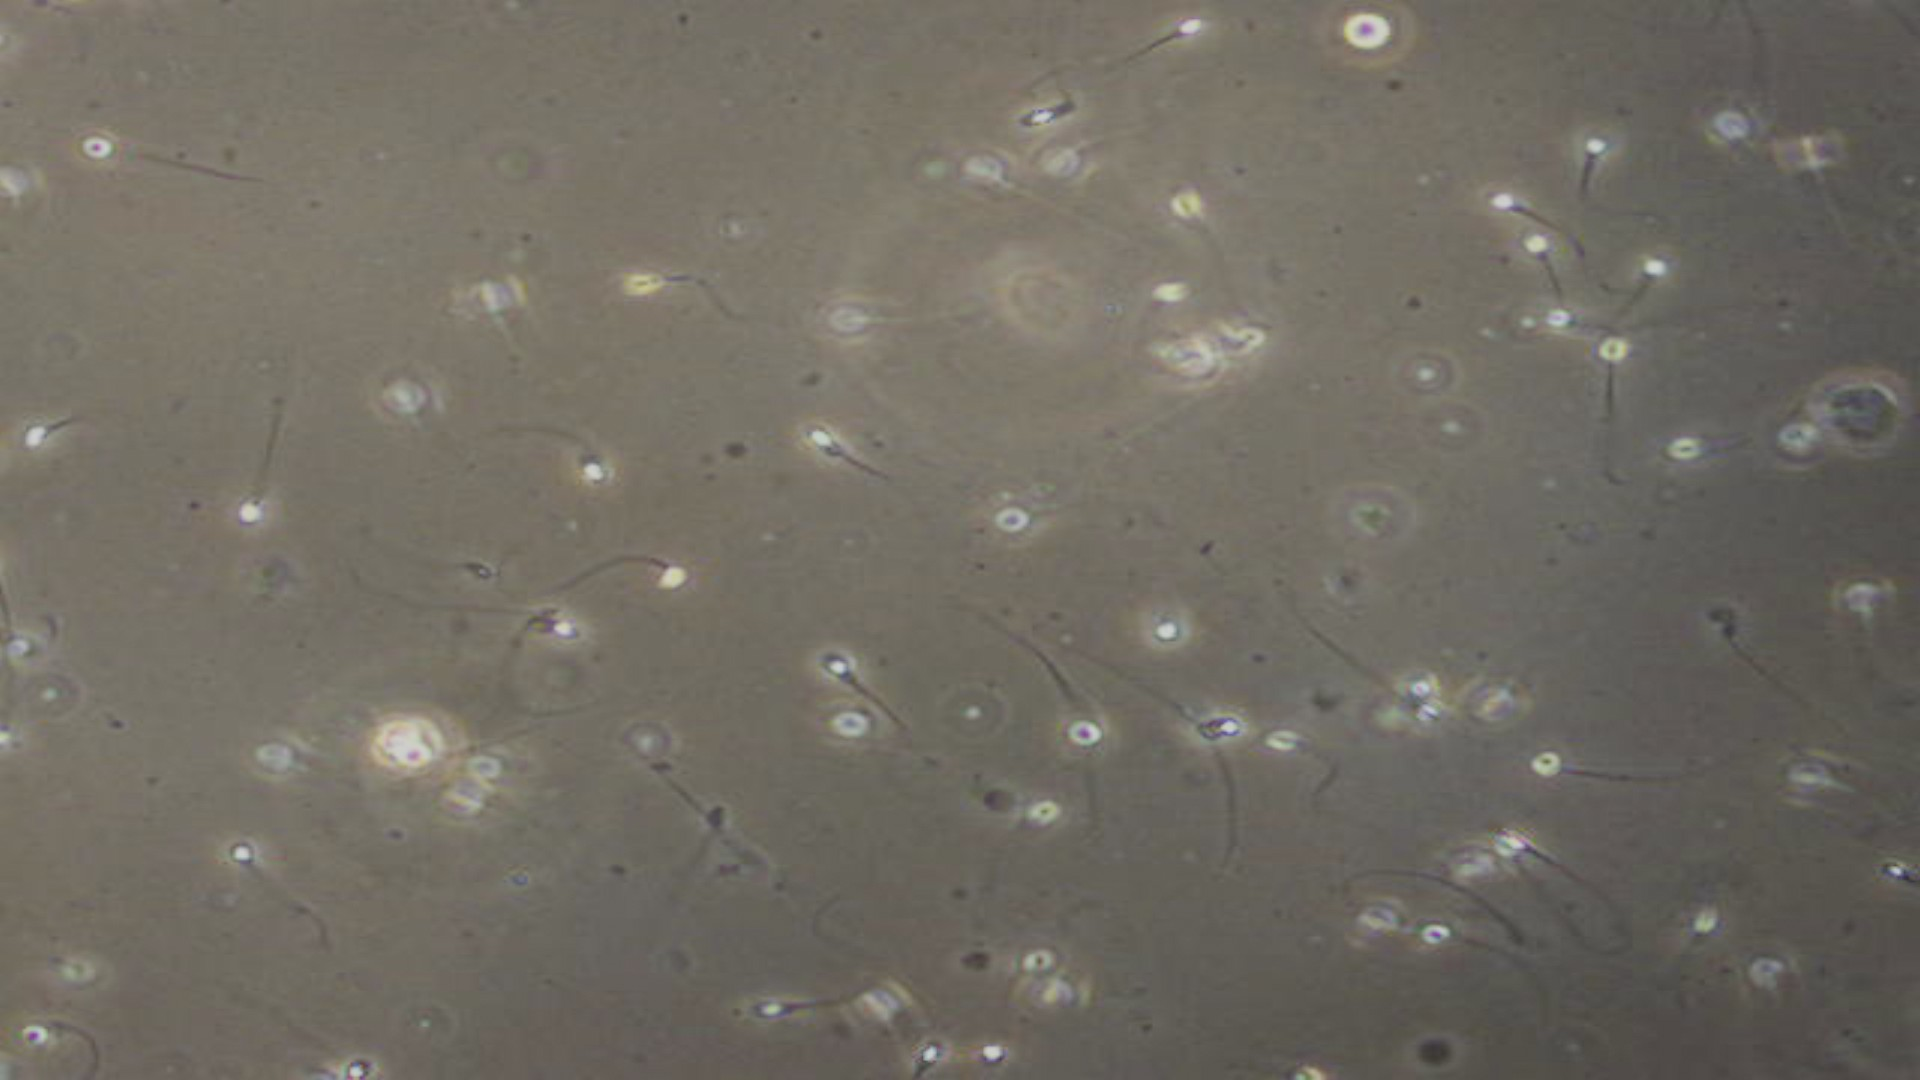sperm: (231, 833, 404, 953), (79, 129, 327, 211), (492, 407, 632, 506), (224, 411, 310, 549), (1418, 916, 1563, 996), (611, 268, 771, 335), (1518, 736, 1660, 803), (15, 998, 127, 1080), (1106, 16, 1211, 99), (386, 604, 588, 644), (582, 542, 700, 607), (1487, 818, 1592, 890), (1495, 173, 1592, 245), (796, 429, 895, 498), (1006, 78, 1102, 146), (1648, 413, 1735, 487), (1593, 328, 1643, 438), (1499, 229, 1575, 302), (1539, 306, 1643, 353), (17, 418, 109, 468), (1557, 125, 1617, 203), (815, 638, 884, 704), (745, 984, 827, 1034), (1615, 245, 1667, 320), (1857, 848, 1920, 893), (1, 607, 45, 666), (903, 1036, 949, 1080)
